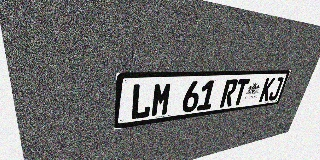1: (197, 80, 217, 111)
6: (181, 81, 202, 113)
J: (268, 77, 284, 101)
K: (258, 77, 276, 102)
L: (130, 83, 153, 120)
M: (150, 82, 173, 117)
R: (219, 79, 239, 108)
T: (232, 79, 250, 106)
